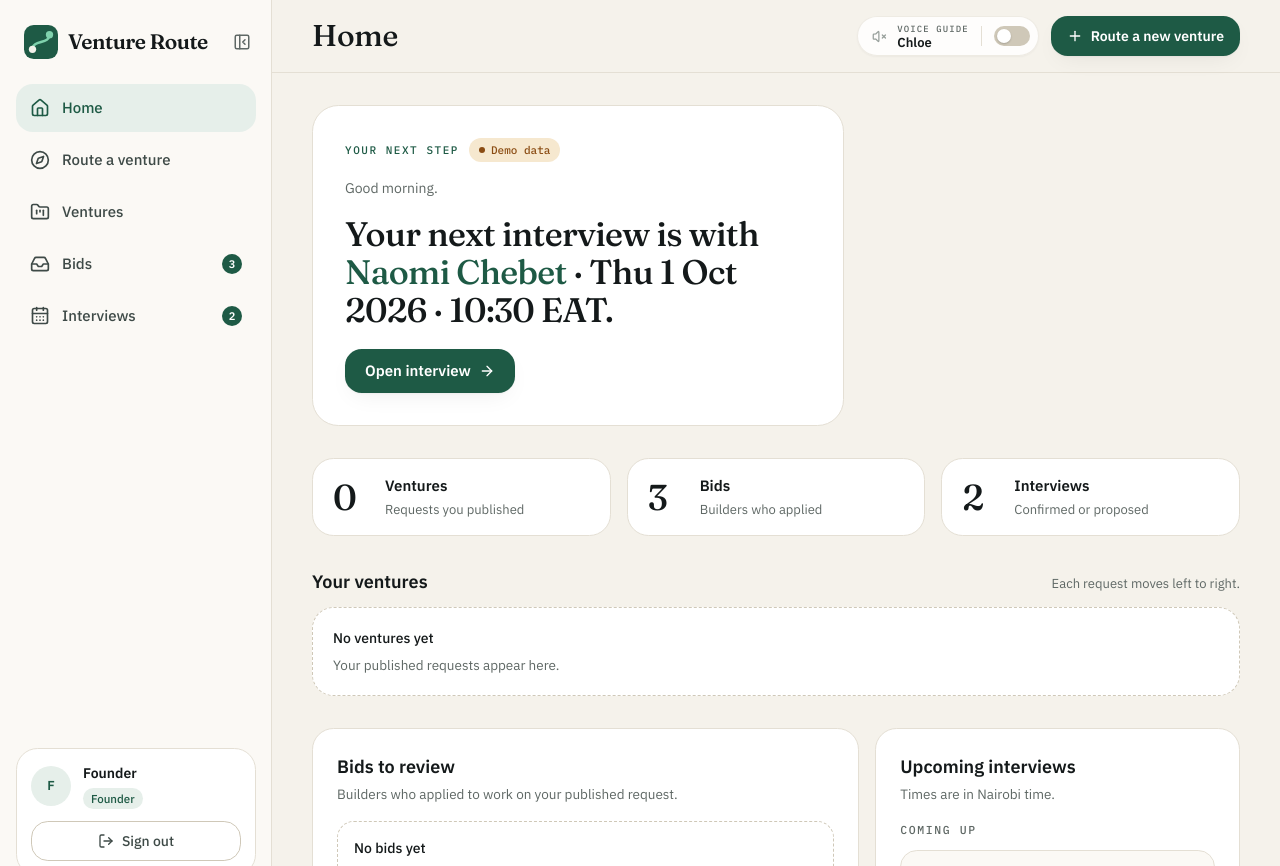
Test: dashboard read-aloud › shows Chloe is speaking with Stop Chloe, which empties the queue; leaving cancels speech
Click the switch named "Voice: Chloe".
click(1012, 36)  # box top-left (994, 26), bottom-right (1030, 46)
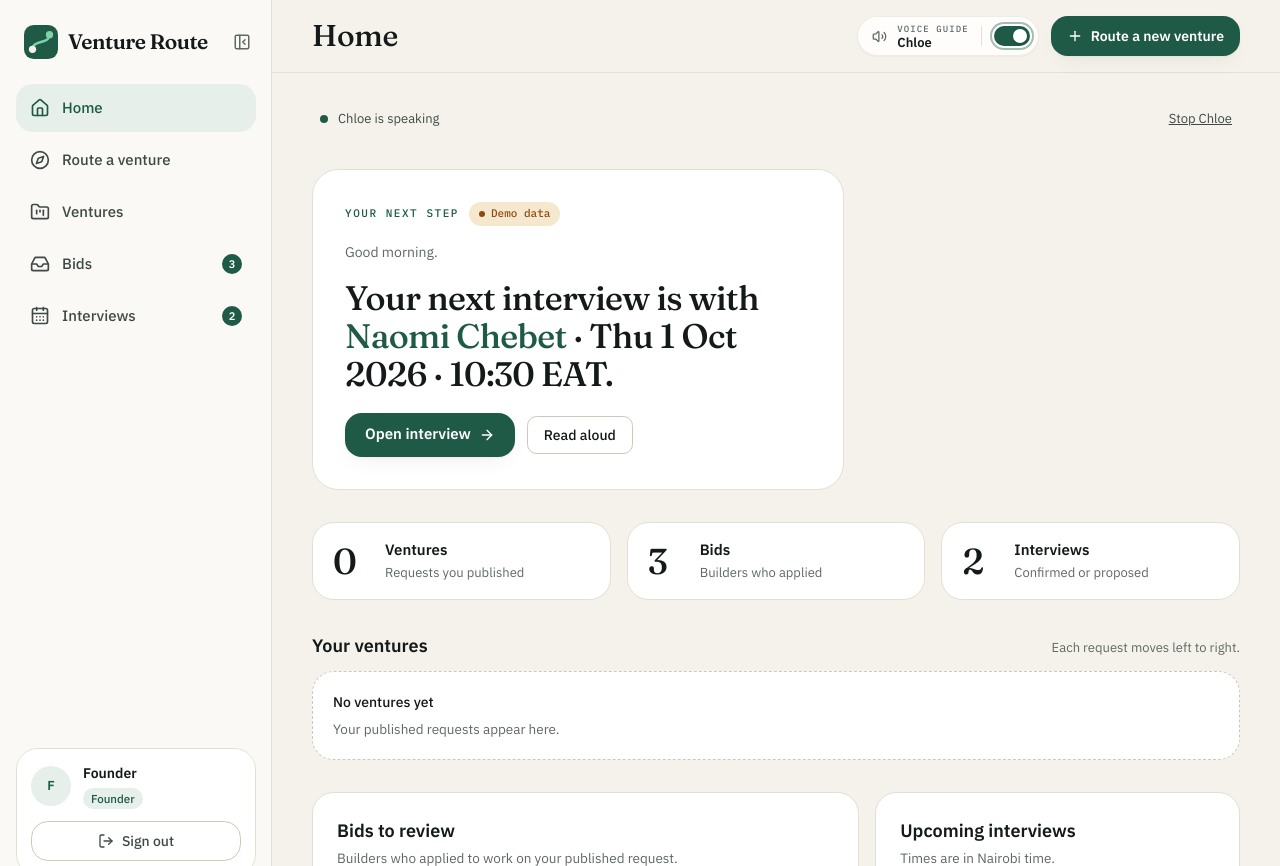
Click the button "Read aloud".
click(580, 435)  # box top-left (527, 416), bottom-right (633, 454)
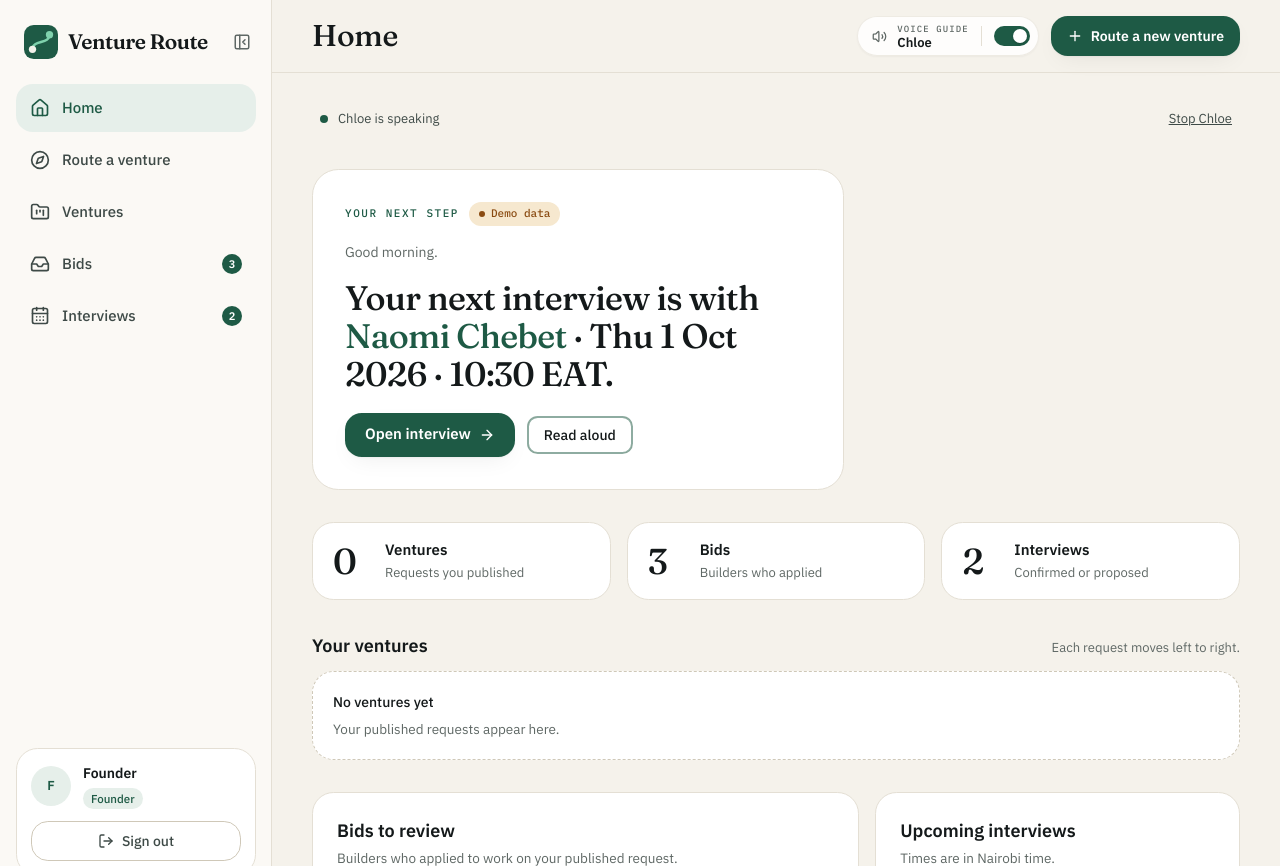
Expected: the text "Chloe is speaking" is shown, top-left (338, 109), bottom-right (439, 128)
Click the button "Stop Chloe".
click(1200, 119)  # box top-left (1169, 109), bottom-right (1232, 128)
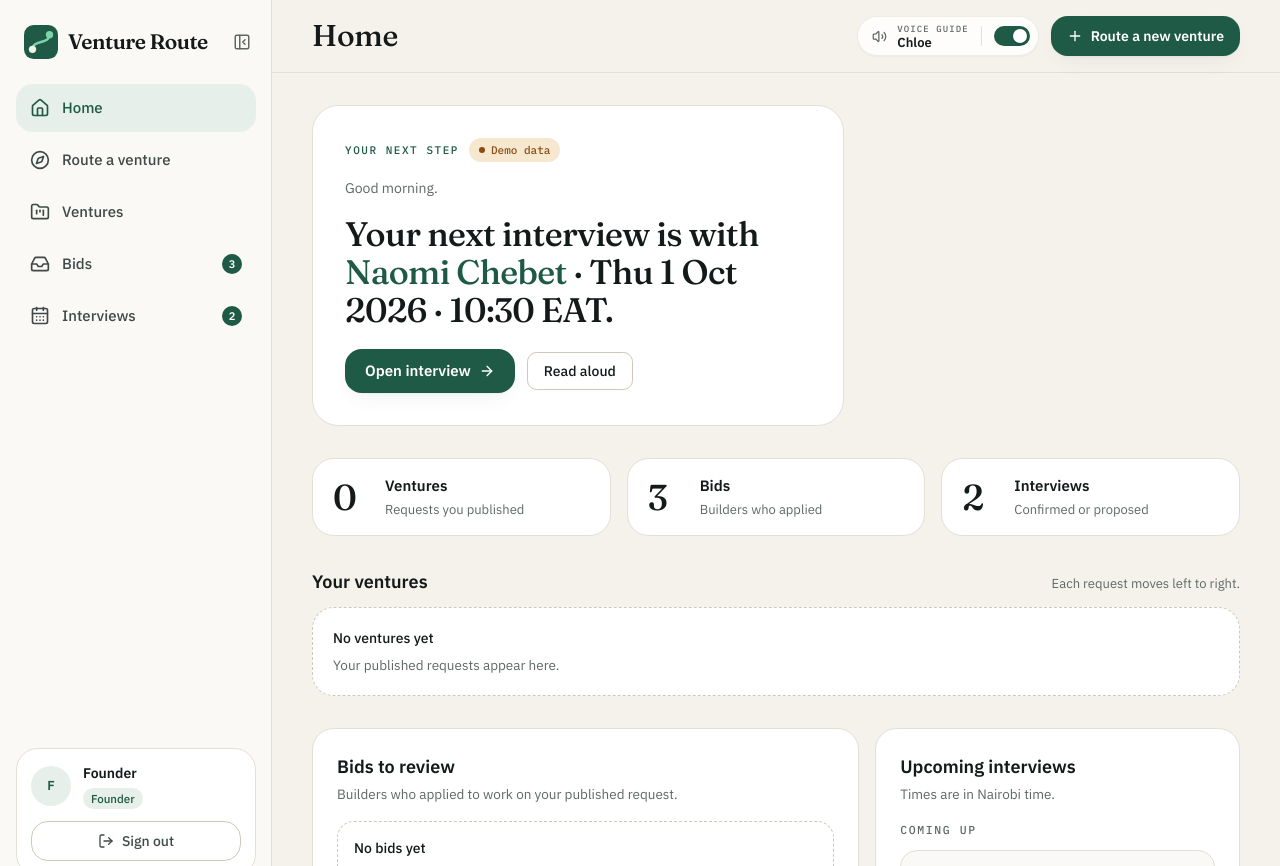
Expected: the text "Chloe is speaking" is gone
Click the button "Read aloud".
click(580, 371)  # box top-left (527, 352), bottom-right (633, 390)
(page scrolled)
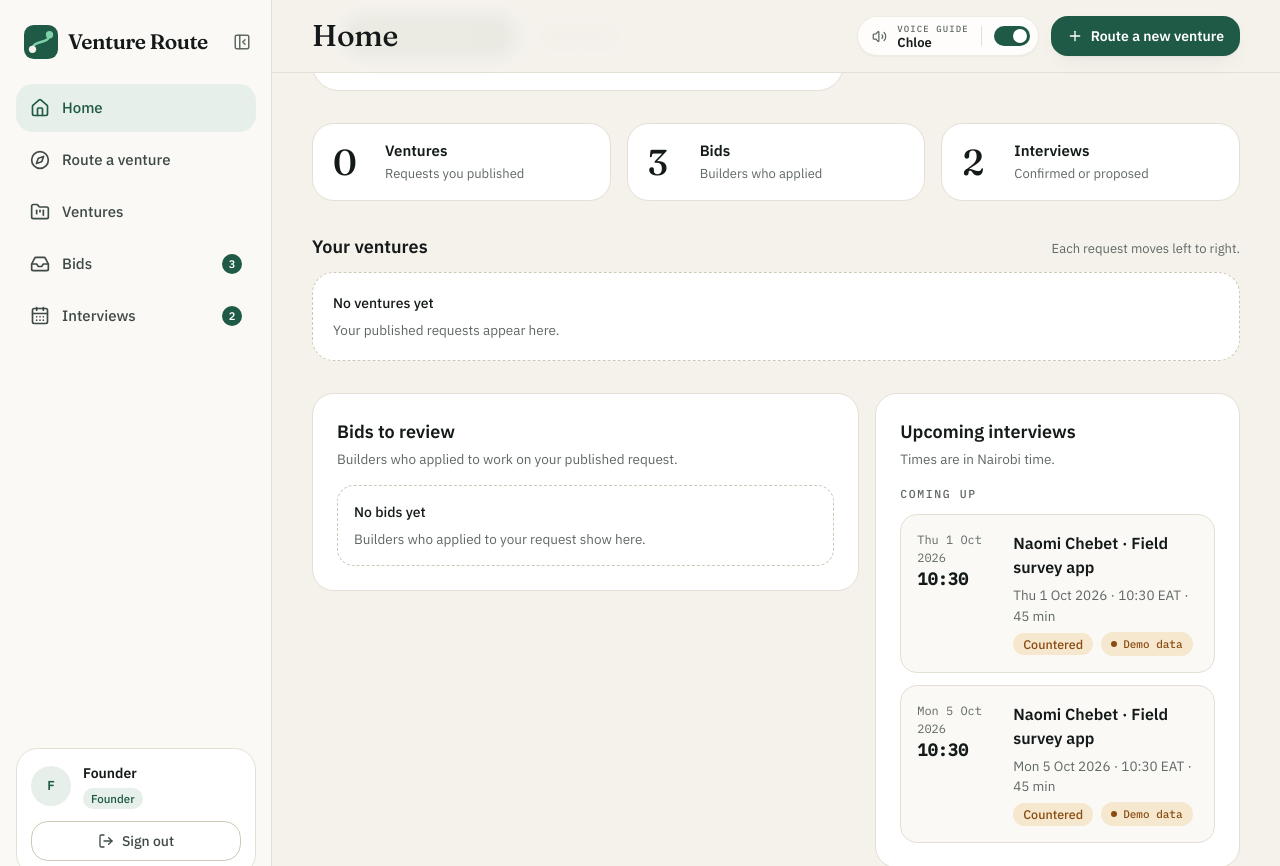
Click the 1st link "Naomi Chebet · Field survey app".
click(1091, 556)  # box top-left (1013, 534), bottom-right (1168, 578)
(page scrolled)
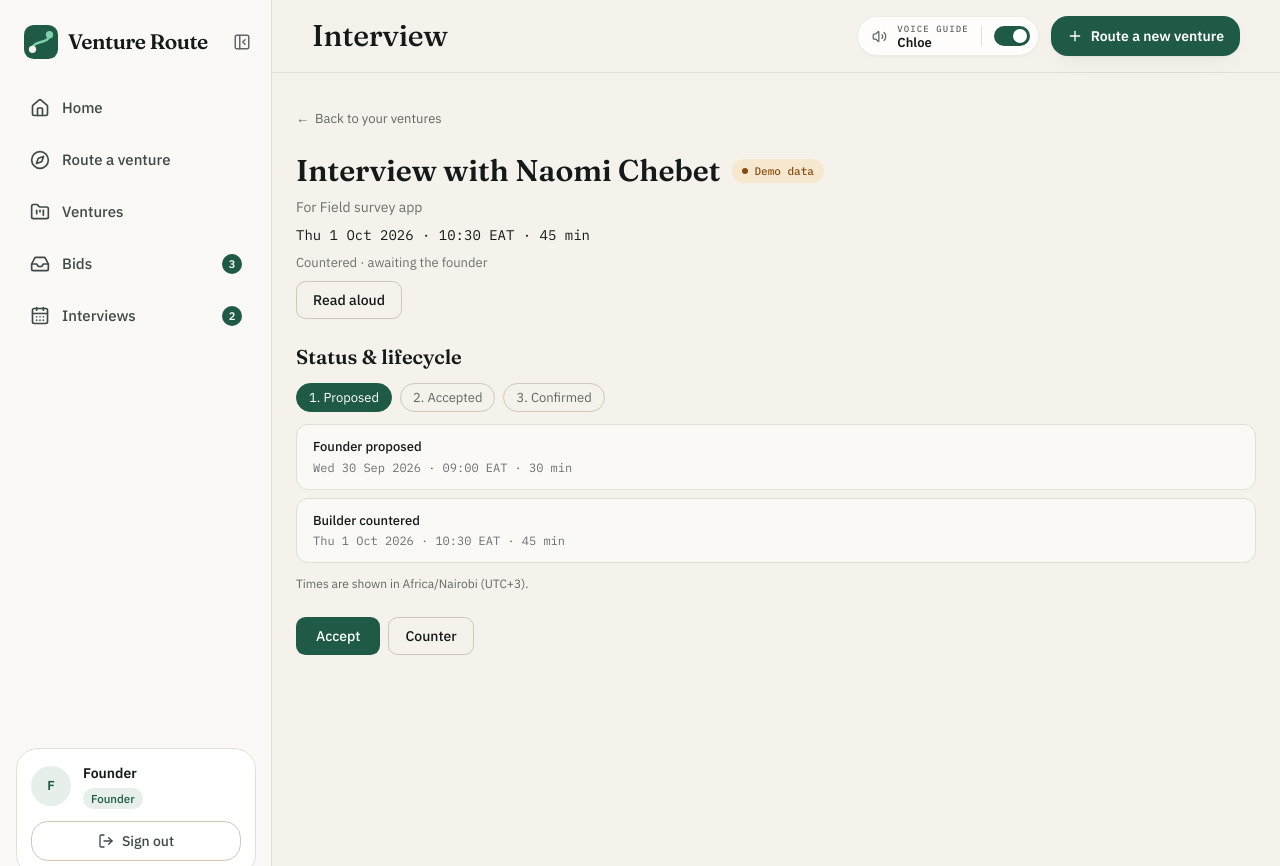
Expected: the heading "Interview with Naomi Chebet" is shown, top-left (296, 153), bottom-right (720, 189)
